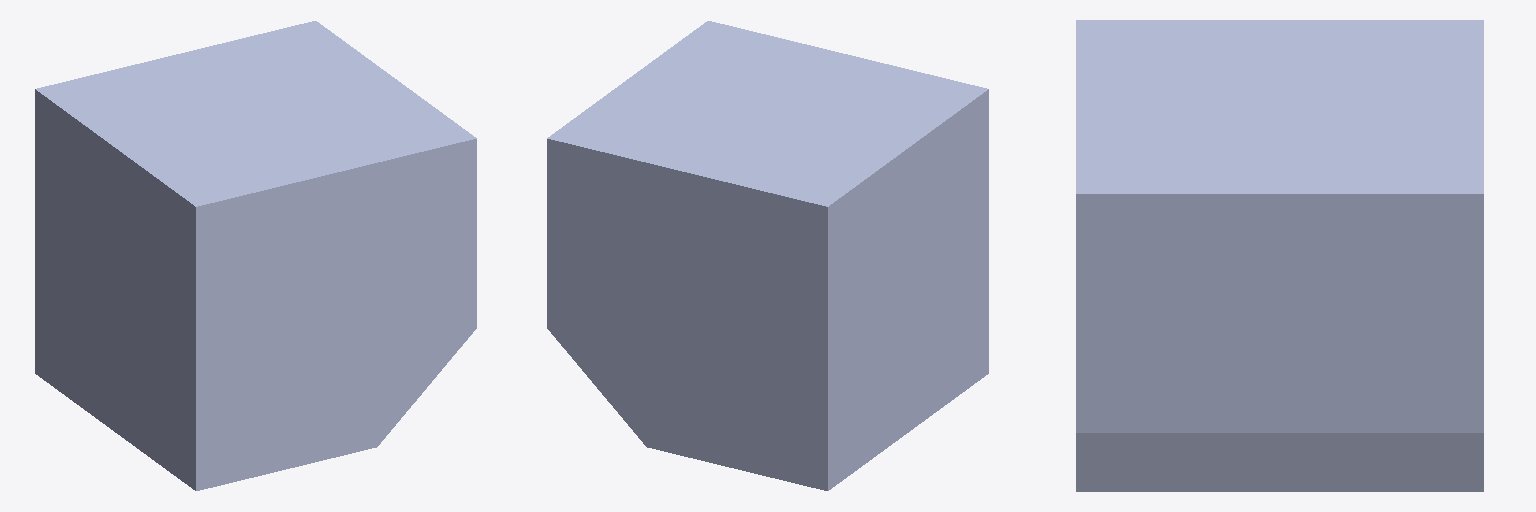
robot.urdf — Box6-3:
<?xml version="1.0" encoding="utf-8"?>
<!-- This URDF was automatically created by SolidWorks to URDF Exporter! Originally created by [author] ([email redacted]) 
     Commit Version: 1.6.0-1-g15f4949  Build Version: 1.6.7594.29634
     For more information, please see http://wiki.ros.org/sw_urdf_exporter -->
<robot
  name="Box6-3">
  <link
    name="base_link">
    <inertial>
      <origin
        xyz="0.0737809523809524 -0.077 0.0786666666666667"
        rpy="0 0 0" />
      <mass
        value="3.36875" />
      <inertia
        ixx="0.0125759715277778"
        ixy="5.04024938518557E-20"
        ixz="-0.00076059423611111"
        iyy="0.0122632059305556"
        iyz="3.07649425050656E-19"
        izz="0.0130027802361111" />
    </inertial>
    <visual>
      <origin
        xyz="0 0 0"
        rpy="0 0 0" />
      <geometry>
        <mesh
          filename="package://Box6-3/meshes/base_link.STL" />
      </geometry>
      <material
        name="">
        <color
          rgba="0.792156862745098 0.819607843137255 0.933333333333333 1" />
      </material>
    </visual>
    <collision>
      <origin
        xyz="0 0 0"
        rpy="0 0 0" />
      <geometry>
        <mesh
          filename="package://Box6-3/meshes/base_link.STL" />
      </geometry>
    </collision>
  </link>
</robot>

--- Facts derived from the render (not from the file) ---
The picture shows the robot from 3 angles, left to right: view 1: azimuth 30°, elevation 25°; view 2: azimuth 150°, elevation 25°; view 3: azimuth 270°, elevation 25°; orthographic projection.
Model Box6-3 with 1 links and 0 joints (none), rooted at base_link, posed every joint at zero.
Links seen in each view (by area): view 1: base_link; view 2: base_link; view 3: base_link.
Boxes of the visible links, x1=… form: base_link: x1=35, y1=21, x2=476, y2=490; base_link: x1=547, y1=21, x2=988, y2=490; base_link: x1=1076, y1=20, x2=1483, y2=491.
Size in the robot's own frame: 0.155 by 0.154 by 0.15 metres.
1 mesh visuals loaded from 1 distinct referenced files (1 binary STL).